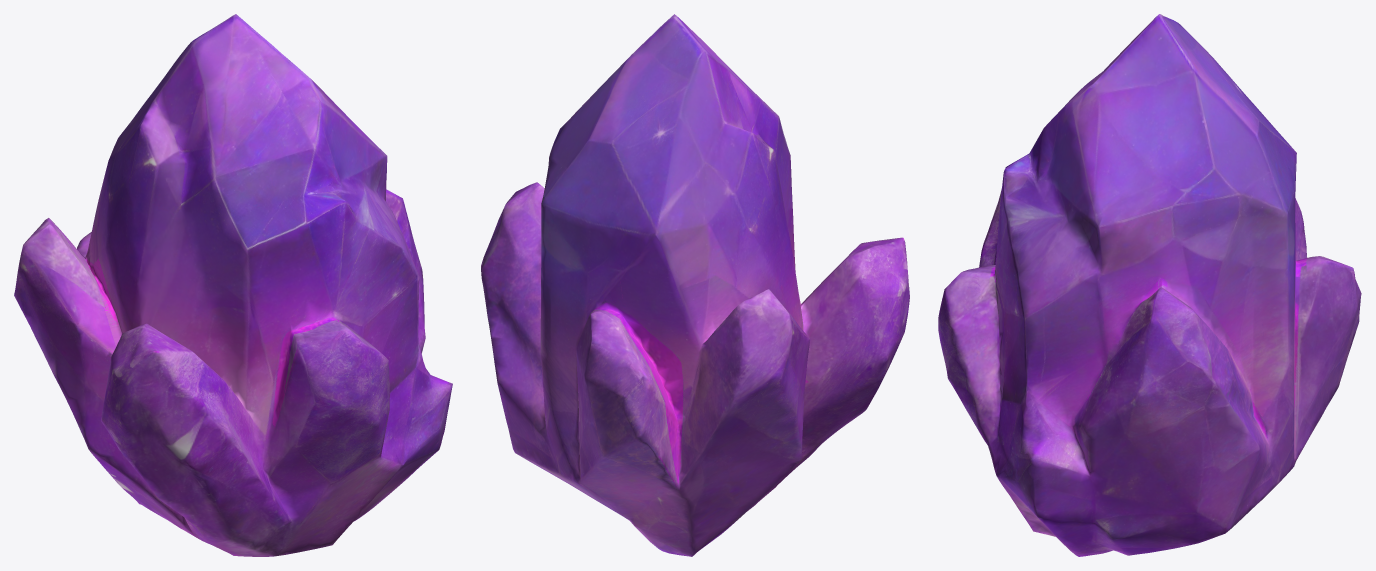
Rendered from Кристалл_фи_0416202036_texture.glb.
The picture shows the model from 3 angles, left to right: view 1: azimuth 30°, elevation 25°; view 2: azimuth 150°, elevation 25°; view 3: azimuth 270°, elevation 25°; orthographic projection. The views are drawn at different scales.
Bounding box in the file's own units: 1.43 × 2 × 1.46.
1 material, 1 textured.
